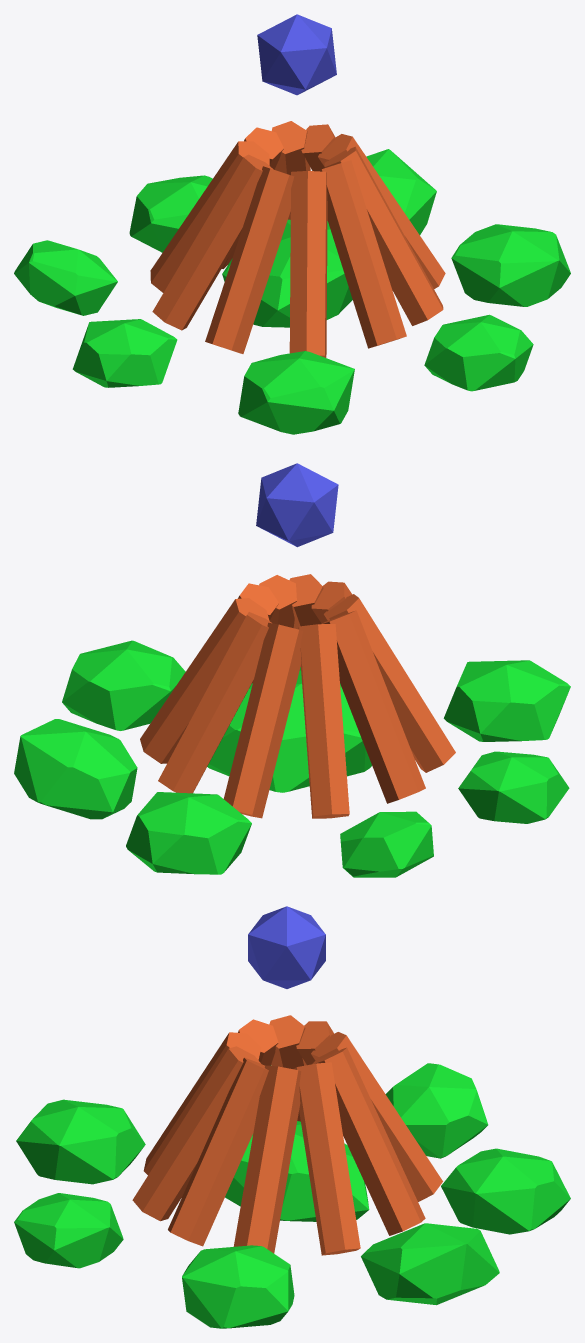
Rendered from FIRE.fbx.
The picture shows the model from 3 angles, top to bottom: view 1: azimuth 30°, elevation 25°; view 2: azimuth 150°, elevation 25°; view 3: azimuth 270°, elevation 25°; orthographic projection. The views are drawn at different scales.
Parts seen in each view (by area): view 1: Icosphere.008, Icosphere.006, Cylinder.007, Cylinder.009, Cylinder.008, Cylinder.006, Icosphere.007, Icosphere.009, Icosphere.001, Cylinder, Icosphere, Icosphere.010 (+7 smaller); view 2: Icosphere.005, Icosphere.008, Icosphere.004, Cylinder.004, Icosphere.006, Cylinder.006, Cylinder.005, Cylinder.003, Icosphere.009, Cylinder.002, Icosphere, Icosphere.010 (+6 smaller); view 3: Icosphere.005, Icosphere.004, Icosphere.008, Icosphere.006, Cylinder.002, Cylinder.001, Cylinder, Cylinder.003, Icosphere.001, Icosphere.007, Cylinder.009, Icosphere (+6 smaller).
Boxes of the visible parts, box(x1,y1,x2,y2) form: Icosphere.008: box(238, 351, 354, 434); Icosphere.006: box(451, 224, 570, 306); Cylinder.007: box(205, 166, 294, 353); Cylinder.009: box(316, 160, 406, 348); Cylinder.008: box(289, 171, 327, 357); Cylinder.006: box(152, 154, 273, 330); Icosphere.007: box(424, 314, 533, 391); Icosphere.009: box(72, 319, 177, 387); Icosphere.001: box(14, 240, 117, 315); Cylinder: box(324, 146, 443, 325); Icosphere: box(257, 14, 336, 95); Icosphere.010: box(222, 219, 352, 327); Icosphere.005: box(14, 719, 137, 819); Icosphere.008: box(443, 660, 570, 741); Icosphere.004: box(126, 792, 251, 874); Cylinder.004: box(223, 622, 302, 818); Icosphere.006: box(62, 640, 185, 730); Cylinder.006: box(321, 610, 425, 803); Cylinder.005: box(298, 624, 349, 818); Cylinder.003: box(158, 612, 271, 793); Icosphere.009: box(458, 751, 569, 823); Cylinder.002: box(140, 598, 269, 763); Icosphere: box(256, 463, 338, 547); Icosphere.010: box(207, 670, 371, 792); Icosphere.005: box(361, 1223, 499, 1305); Icosphere.004: box(441, 1148, 570, 1234); Icosphere.008: box(16, 1099, 145, 1184); Icosphere.006: box(182, 1245, 294, 1328); Cylinder.002: box(293, 1062, 360, 1255); Cylinder.001: box(233, 1065, 301, 1253); Cylinder: box(168, 1057, 268, 1246); Cylinder.003: box(312, 1047, 425, 1235); Icosphere.001: box(385, 1063, 488, 1158); Icosphere.007: box(14, 1193, 123, 1268); Cylinder.009: box(132, 1046, 260, 1221); Icosphere: box(248, 906, 325, 988).
Bounding box in the file's own units: 419 × 265 × 416.
